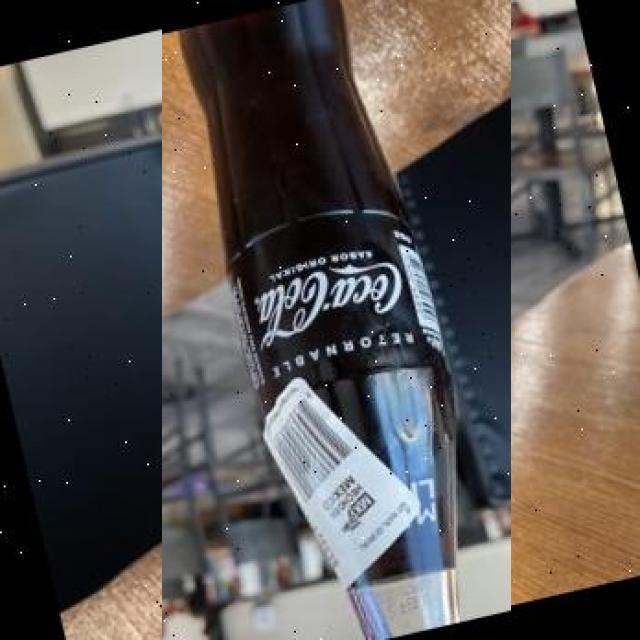coca-cola: (162, 0, 511, 640)
